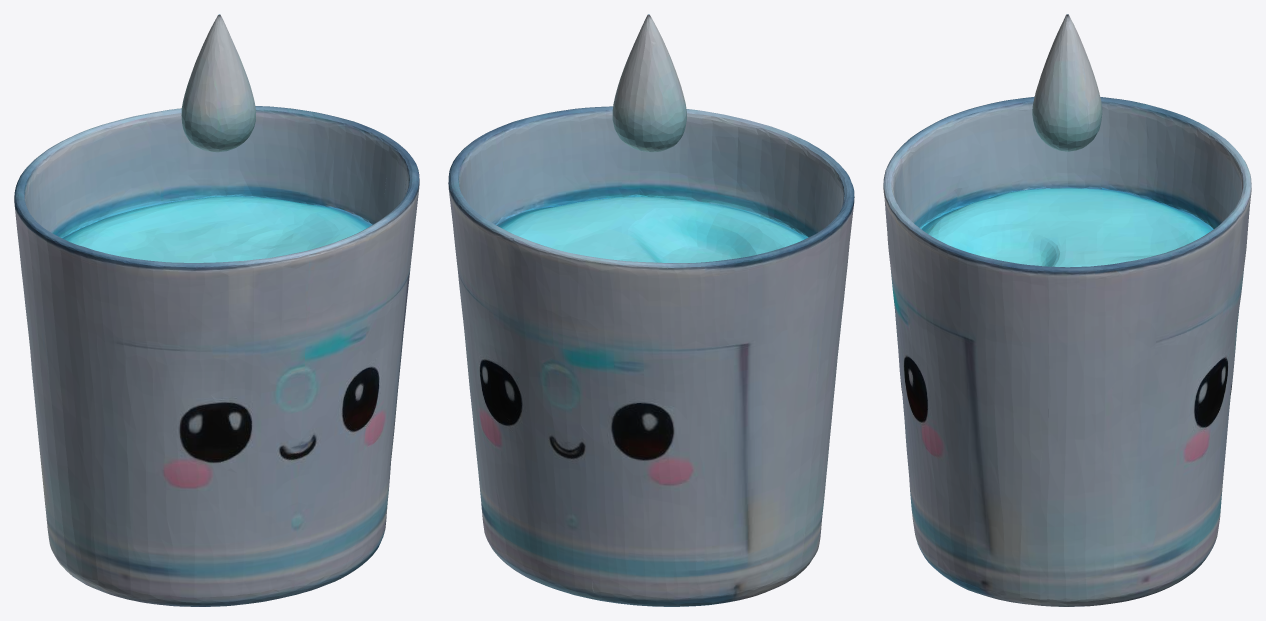
Rendered from water.glb.
The picture shows the model from 3 angles, left to right: view 1: azimuth 30°, elevation 25°; view 2: azimuth 150°, elevation 25°; view 3: azimuth 270°, elevation 25°; orthographic projection.
Parts seen in each view (by area): view 1: geometry_0; view 2: geometry_0; view 3: geometry_0.
Part boxes in pixels (x1,y1,x2,y2): geometry_0: [14, 14, 419, 606]; geometry_0: [448, 14, 854, 606]; geometry_0: [883, 14, 1251, 606].
Size of the model in its own units: 0.7122 by 0.9986 by 0.6323.
Materials: 1 (1 with a texture image).
